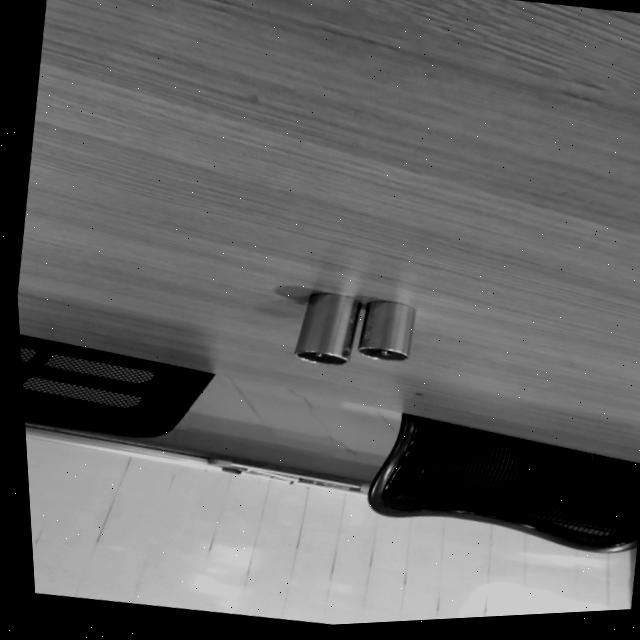Co_Lon: (294, 288, 362, 370)
Co_Nho: (357, 298, 417, 364)
